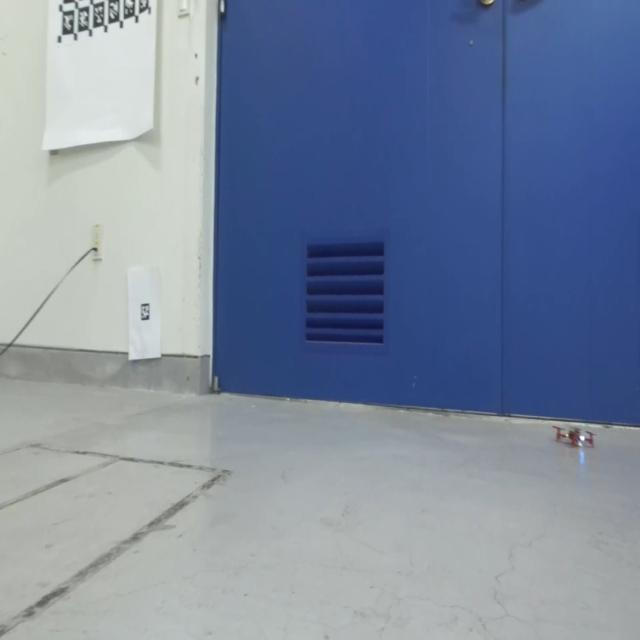crazyflie: (551, 420, 599, 453)
